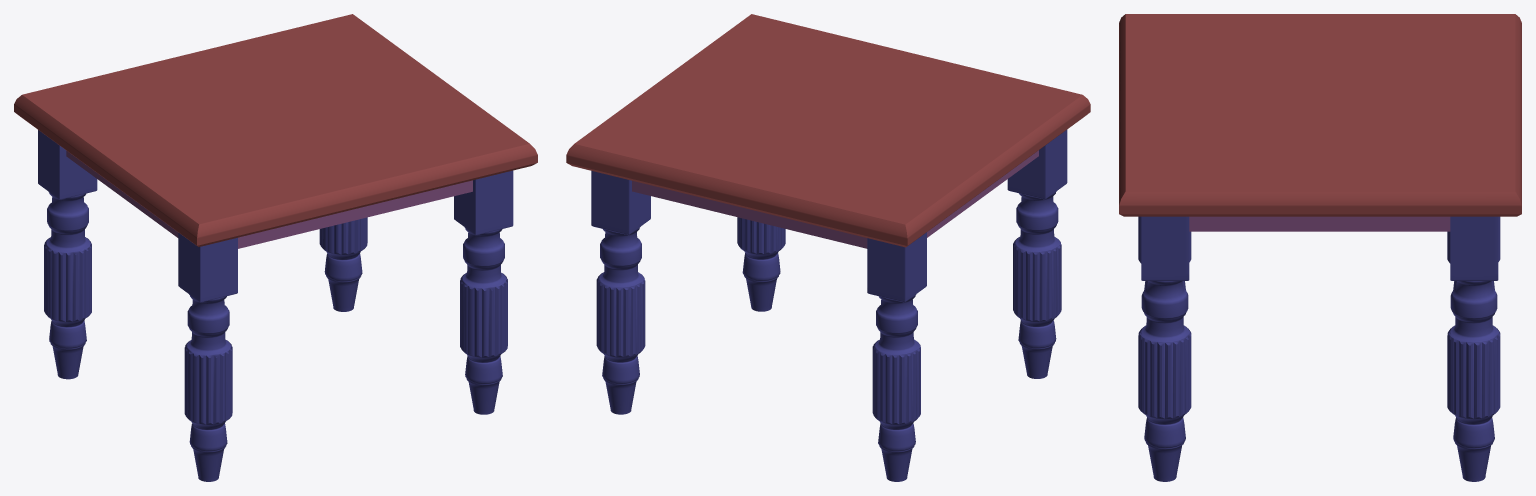
File: table_high.fbx
3 renders of one model, left to right at view 1: azimuth 30°, elevation 25°; view 2: azimuth 150°, elevation 25°; view 3: azimuth 270°, elevation 25°, orthographic. The views are drawn at different scales.
Visible parts, largest first — view 1: table_high, leg_high, undertable_high; view 2: table_high, leg_high, undertable_high; view 3: table_high, leg_high, undertable_high.
Part boxes in pixels (x1,y1,x2,y2): table_high: [14, 14, 537, 246]; leg_high: [38, 130, 513, 481]; undertable_high: [66, 150, 472, 248]; table_high: [566, 14, 1090, 247]; leg_high: [591, 130, 1067, 481]; undertable_high: [632, 150, 1038, 248]; table_high: [1119, 14, 1521, 216]; leg_high: [1138, 216, 1500, 481]; undertable_high: [1189, 216, 1450, 231].
Bounding box in the file's own units: 10.76 × 8.24 × 10.01.
